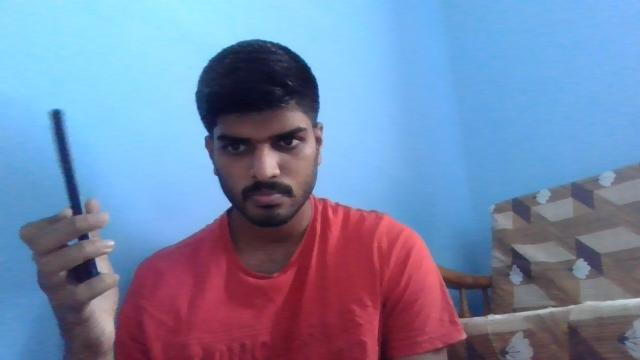PhoneUse: (44, 104, 100, 296)
SafeDriving: (213, 132, 260, 158), (272, 128, 310, 154)
